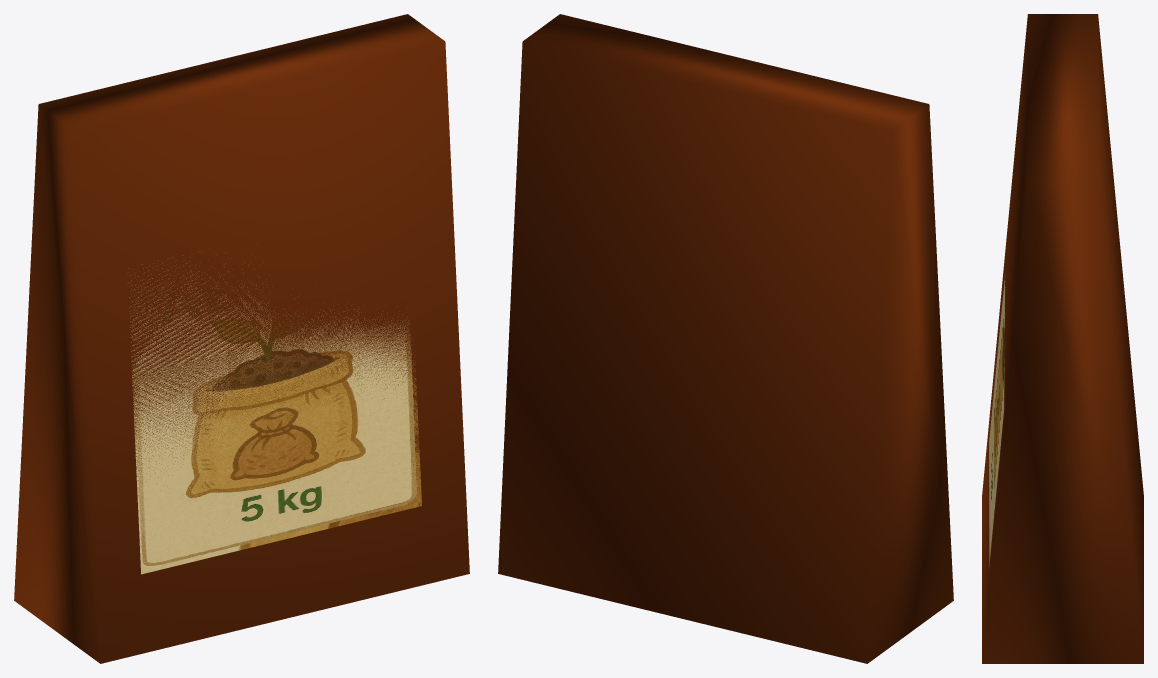
The model's file is ABONO VER COMO SUBIR  2.fbx.
The picture shows the model from 3 angles, left to right: view 1: azimuth 30°, elevation 25°; view 2: azimuth 150°, elevation 25°; view 3: azimuth 270°, elevation 25°; orthographic projection. The views are drawn at different scales.
Parts seen in each view (by area): view 1: Cube, Plane; view 2: Cube; view 3: Cube, Plane.
Part boxes in pixels (x1,y1,x2,y2): Cube: (14, 14, 469, 663); Plane: (129, 263, 421, 574); Cube: (498, 14, 953, 663); Cube: (982, 14, 1143, 663); Plane: (989, 274, 1005, 569).
Size of the model in its own units: 501 by 666 by 203.
2 materials, 1 textured.
